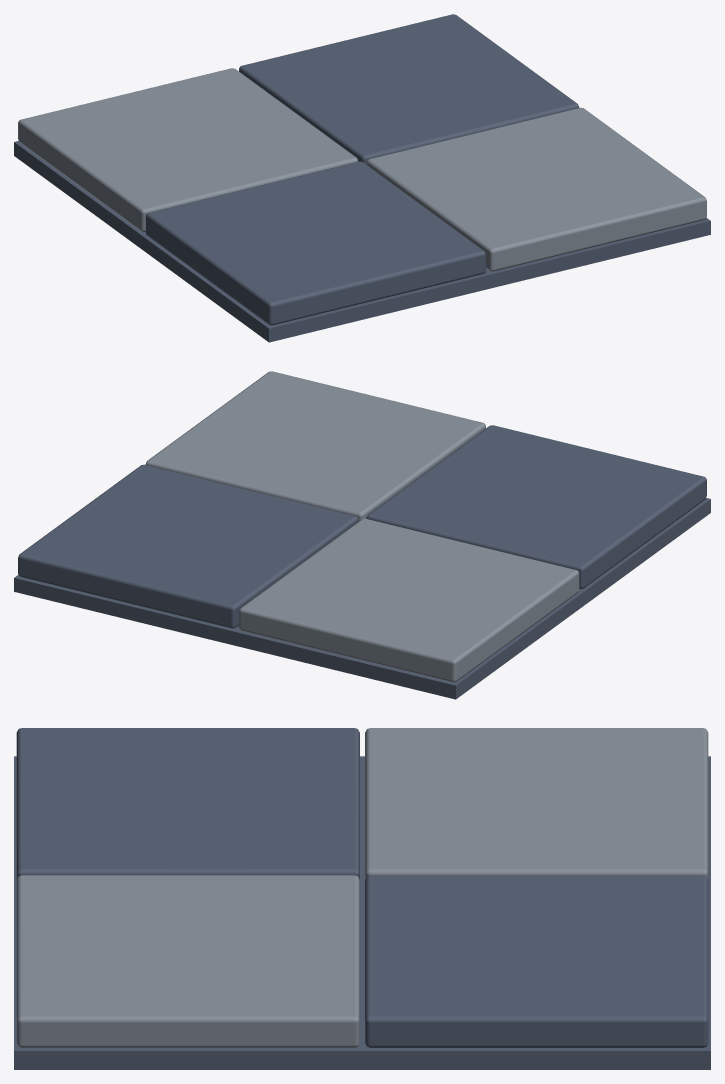
The model's file is dungeon-floor.glb.
3 views of the same model, one above another, from view 1: azimuth 30°, elevation 25°; view 2: azimuth 150°, elevation 25°; view 3: azimuth 270°, elevation 25° (orthographic). The views are drawn at different scales.
Visible parts, largest first — view 1: flagstone--0.5-0.5, flagstone-0.5-0.5, flagstone--0.5--0.5, flagstone-0.5--0.5, foundation; view 2: flagstone--0.5--0.5, flagstone-0.5--0.5, flagstone--0.5-0.5, flagstone-0.5-0.5, foundation; view 3: flagstone-0.5--0.5, flagstone-0.5-0.5, flagstone--0.5--0.5, flagstone--0.5-0.5, foundation.
Boxes of the visible parts, <box> form: flagstone--0.5-0.5: <box>145,161,485,325</box>; flagstone-0.5-0.5: <box>366,107,706,271</box>; flagstone--0.5--0.5: <box>18,68,358,231</box>; flagstone-0.5--0.5: <box>239,14,579,164</box>; foundation: <box>14,141,710,342</box>; flagstone--0.5--0.5: <box>239,518,579,682</box>; flagstone-0.5--0.5: <box>18,464,358,628</box>; flagstone--0.5-0.5: <box>366,425,706,588</box>; flagstone-0.5-0.5: <box>145,371,485,521</box>; foundation: <box>14,498,710,699</box>; flagstone-0.5--0.5: <box>365,875,708,1047</box>; flagstone-0.5-0.5: <box>16,875,359,1047</box>; flagstone--0.5--0.5: <box>365,728,708,879</box>; flagstone--0.5-0.5: <box>16,728,359,879</box>; foundation: <box>14,756,710,1069</box>.
Size of the model in its own units: 2 by 0.16 by 2.
